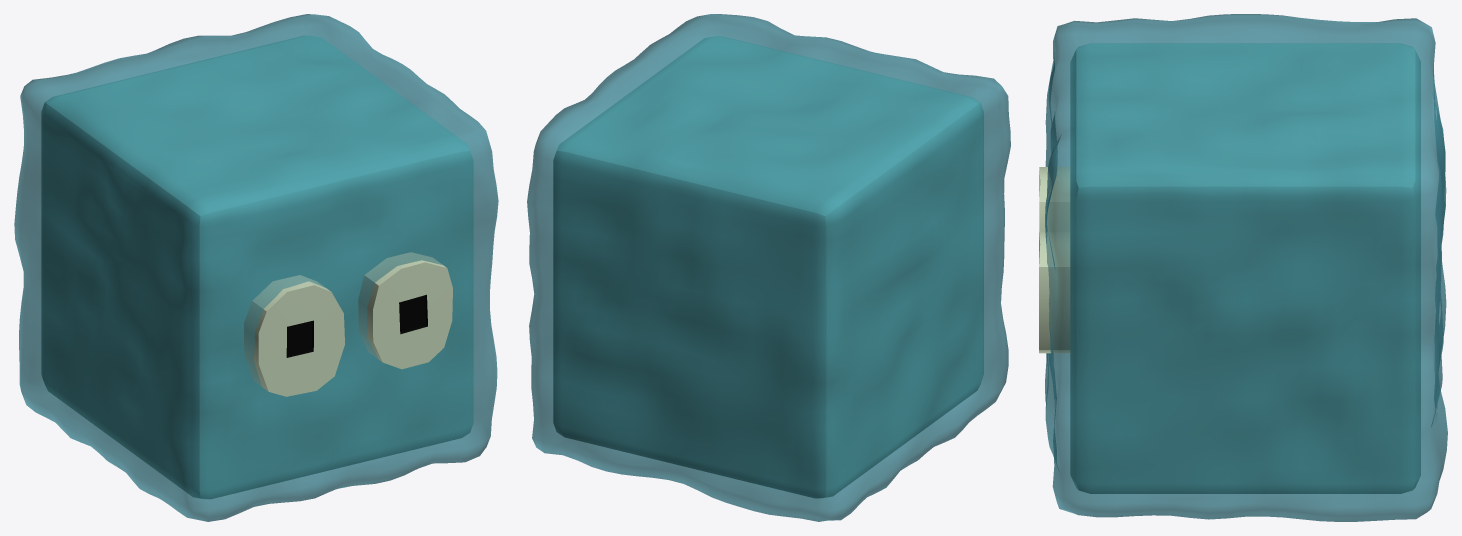
Rendered from Socializer.fbx.
3 renders of one model, left to right at view 1: azimuth 30°, elevation 25°; view 2: azimuth 150°, elevation 25°; view 3: azimuth 270°, elevation 25°, orthographic. The views are drawn at different scales.
Visible parts, largest first — view 1: Jello, Cubo, Eyes, Eyes1; view 2: Jello, Cubo; view 3: Jello, Cubo, Eyes1, Eyes.
Boxes of the visible parts, left/top/right/bottom form: Jello: left=14, top=14, right=498, bottom=521; Cubo: left=41, top=35, right=473, bottom=499; Eyes: left=244, top=275, right=344, bottom=396; Eyes1: left=358, top=252, right=452, bottom=369; Jello: left=527, top=14, right=1010, bottom=521; Cubo: left=553, top=36, right=983, bottom=498; Jello: left=1045, top=14, right=1447, bottom=521; Cubo: left=1070, top=43, right=1420, bottom=493; Eyes1: left=1039, top=231, right=1070, bottom=353; Eyes: left=1039, top=167, right=1070, bottom=231.
Bounding box in the file's own units: 8.62 × 8.64 × 8.75.
